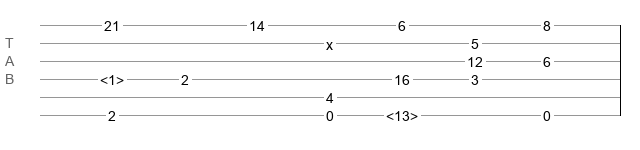0: (326, 108, 334, 118), (543, 108, 551, 118)
12: (467, 54, 483, 64)
14: (249, 18, 265, 28)
16: (394, 72, 410, 82)
2: (108, 108, 116, 118), (181, 72, 189, 82)
21: (104, 18, 120, 28)
3: (471, 72, 479, 82)
4: (326, 90, 334, 100)
5: (471, 36, 479, 46)
6: (398, 18, 406, 28), (543, 54, 551, 64)
8: (543, 18, 551, 28)
harmonic: (386, 108, 418, 118), (100, 72, 124, 82)
x: (326, 37, 333, 45)
